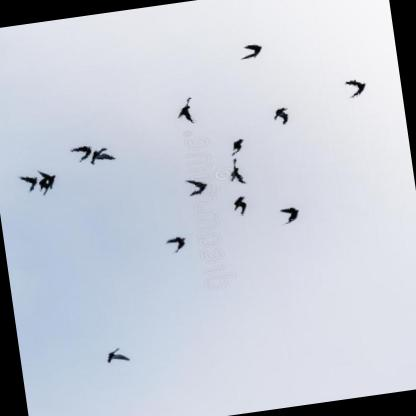bird: (171, 87, 204, 129), (93, 340, 140, 366), (86, 141, 119, 173), (219, 152, 253, 183), (264, 101, 298, 131), (10, 167, 40, 198), (220, 129, 249, 161), (333, 69, 359, 102), (183, 173, 215, 198), (234, 38, 261, 67), (159, 232, 192, 254), (65, 140, 91, 166), (272, 199, 306, 218), (227, 192, 251, 218)
